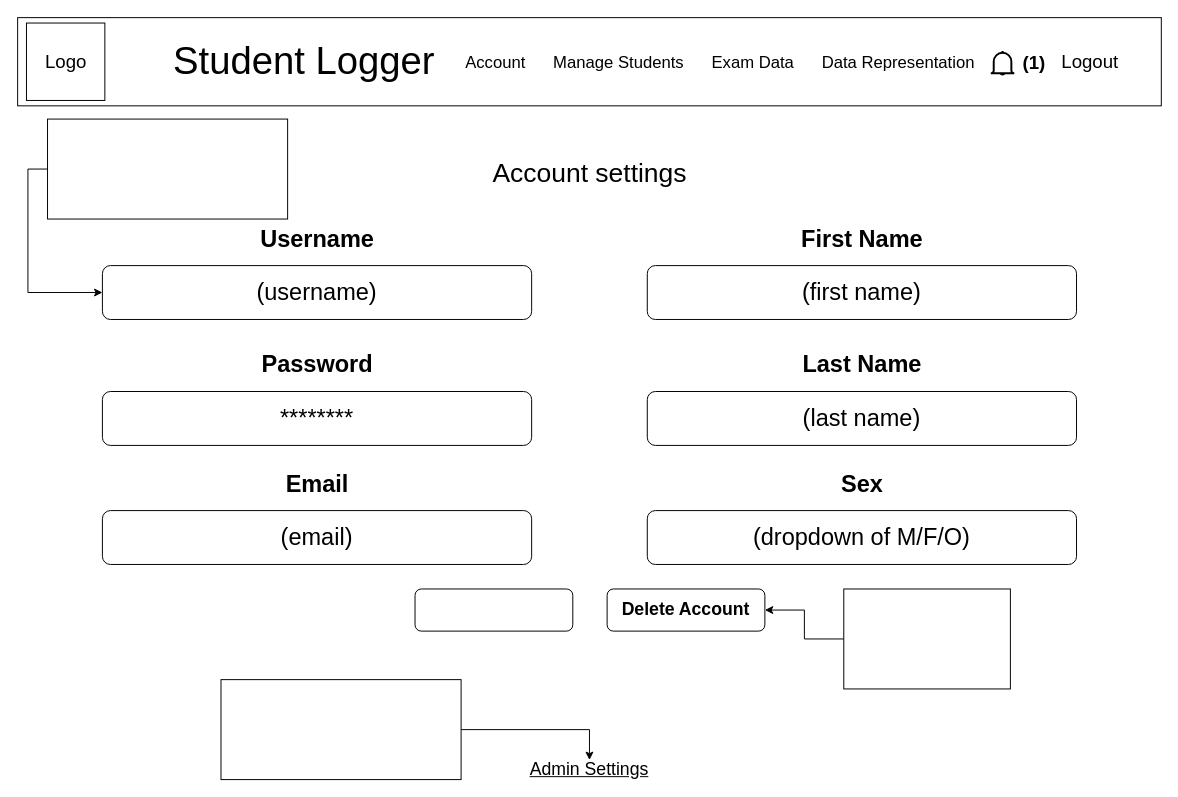
The diagram is 1178 pixels wide and 797 high, and some of its shapes have lost their labels. Each missing label, with the box of its shape:
(Form text box) Can be typed into.: (47, 118, 288, 219)
(Link) Redirects to Admin Settings page: (220, 679, 461, 780)
Pops up an "are you sure?" page: (843, 588, 1010, 689)
Save Changes: (414, 588, 573, 631)
